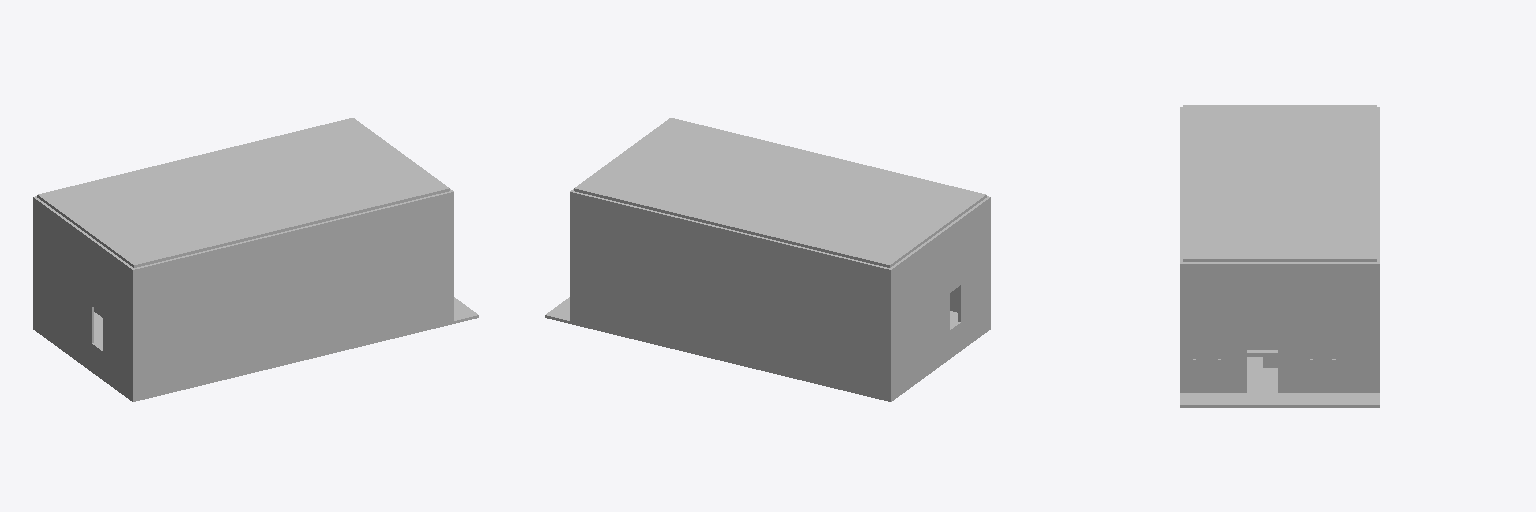
File: house1.obj
3 renders of one model, left to right at view 1: azimuth 30°, elevation 25°; view 2: azimuth 150°, elevation 25°; view 3: azimuth 270°, elevation 25°, orthographic.
Bounding box in the file's own units: 126 × 47 × 63.